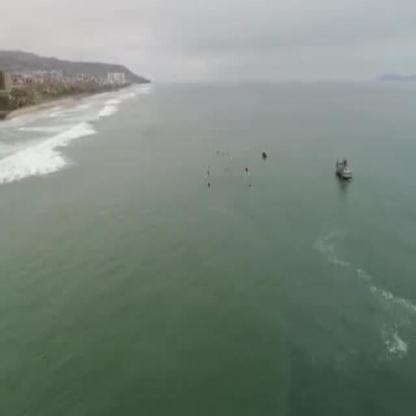Boat: (331, 156, 355, 186)
